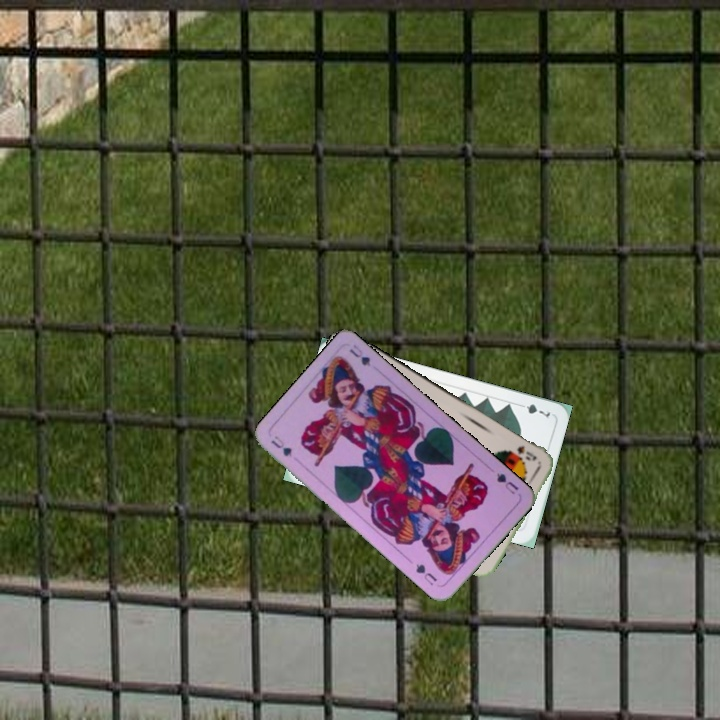G7: (514, 399, 553, 421)
GU: (492, 469, 521, 497), (267, 431, 295, 460)
SO: (513, 441, 539, 463)
